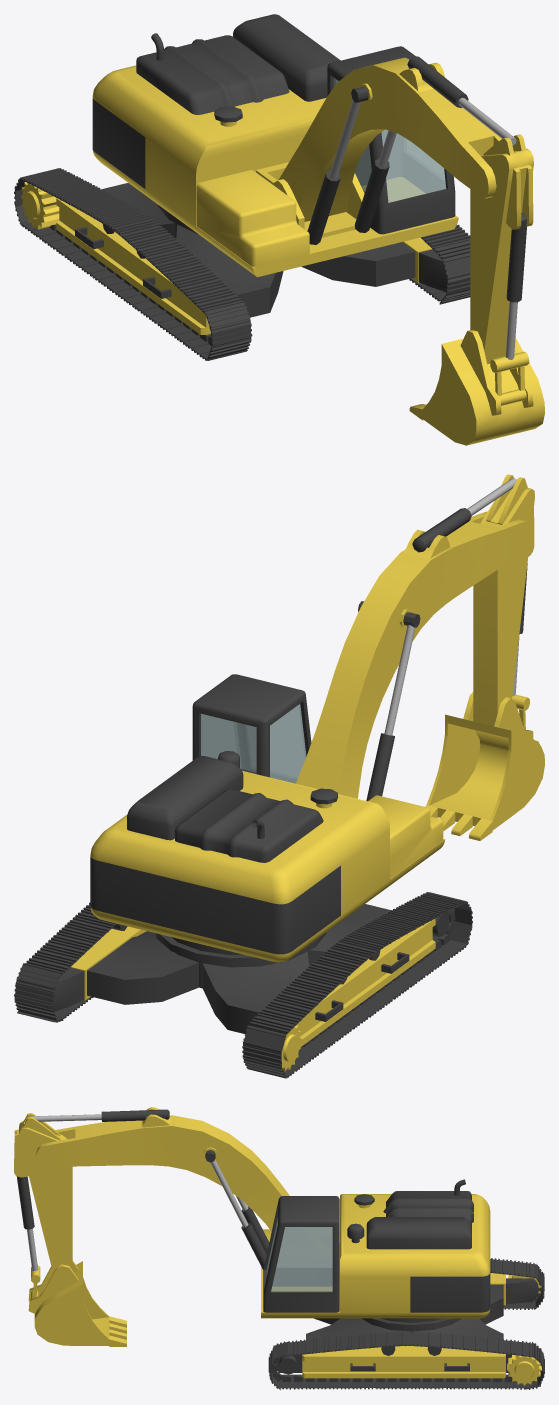
File: Excavator.glb
3 views of the same model, one above another, from view 1: azimuth 30°, elevation 25°; view 2: azimuth 150°, elevation 25°; view 3: azimuth 270°, elevation 25° (orthographic). The views are drawn at different scales.
Visible parts, largest first — view 1: Box001, Line001, Excavator_Chassis, Line002, Rectangle001, Box002, Cylinder005, Cylinder003, Cylinder002, Cylinder006, Tread049, Tread098 (+1 smaller); view 2: Box001, Excavator_Chassis, Line001, Line002, Box002, Rectangle001, Cylinder005, Cylinder002, Tread125, Tread122, Tread075; view 3: Box001, Excavator_Chassis, Line001, Box002, Line002, Rectangle001, Cylinder002, Cylinder006, Cylinder003, Cylinder005.
Part boxes in pixels (x1=…): Box001: x1=92, y1=14, x2=458, y2=277; Line001: x1=278, y1=57, x2=501, y2=221; Excavator_Chassis: x1=20, y1=182, x2=446, y2=334; Line002: x1=409, y1=330, x2=544, y2=445; Rectangle001: x1=470, y1=134, x2=533, y2=364; Box002: x1=327, y1=46, x2=455, y2=234; Cylinder005: x1=307, y1=100, x2=360, y2=244; Cylinder003: x1=505, y1=212, x2=526, y2=359; Cylinder002: x1=407, y1=56, x2=516, y2=145; Cylinder006: x1=354, y1=130, x2=396, y2=232; Tread049: x1=210, y1=318, x2=252, y2=350; Tread098: x1=205, y1=302, x2=251, y2=332; Box001: x1=90, y1=751, x2=445, y2=962; Excavator_Chassis: x1=53, y1=904, x2=449, y2=1071; Line001: x1=296, y1=511, x2=531, y2=798; Line002: x1=425, y1=692, x2=544, y2=840; Box002: x1=192, y1=674, x2=311, y2=783; Rectangle001: x1=473, y1=474, x2=534, y2=726; Cylinder005: x1=366, y1=625, x2=415, y2=801; Cylinder002: x1=412, y1=478, x2=516, y2=552; Tread125: x1=15, y1=963, x2=61, y2=993; Tread122: x1=14, y1=979, x2=54, y2=1009; Tread075: x1=243, y1=1024, x2=286, y2=1054; Box001: x1=261, y1=1179, x2=490, y2=1318; Excavator_Chassis: x1=276, y1=1273, x2=541, y2=1385; Line001: x1=35, y1=1107, x2=289, y2=1231; Box002: x1=263, y1=1196, x2=339, y2=1312; Line002: x1=28, y1=1260, x2=126, y2=1346; Rectangle001: x1=14, y1=1113, x2=72, y2=1272; Cylinder002: x1=31, y1=1109, x2=169, y2=1121; Cylinder006: x1=210, y1=1159, x2=266, y2=1269; Cylinder003: x1=16, y1=1176, x2=38, y2=1271; Cylinder005: x1=236, y1=1196, x2=269, y2=1253.
Bounding box in the file's own units: 6.08 × 7.07 × 14.67.
